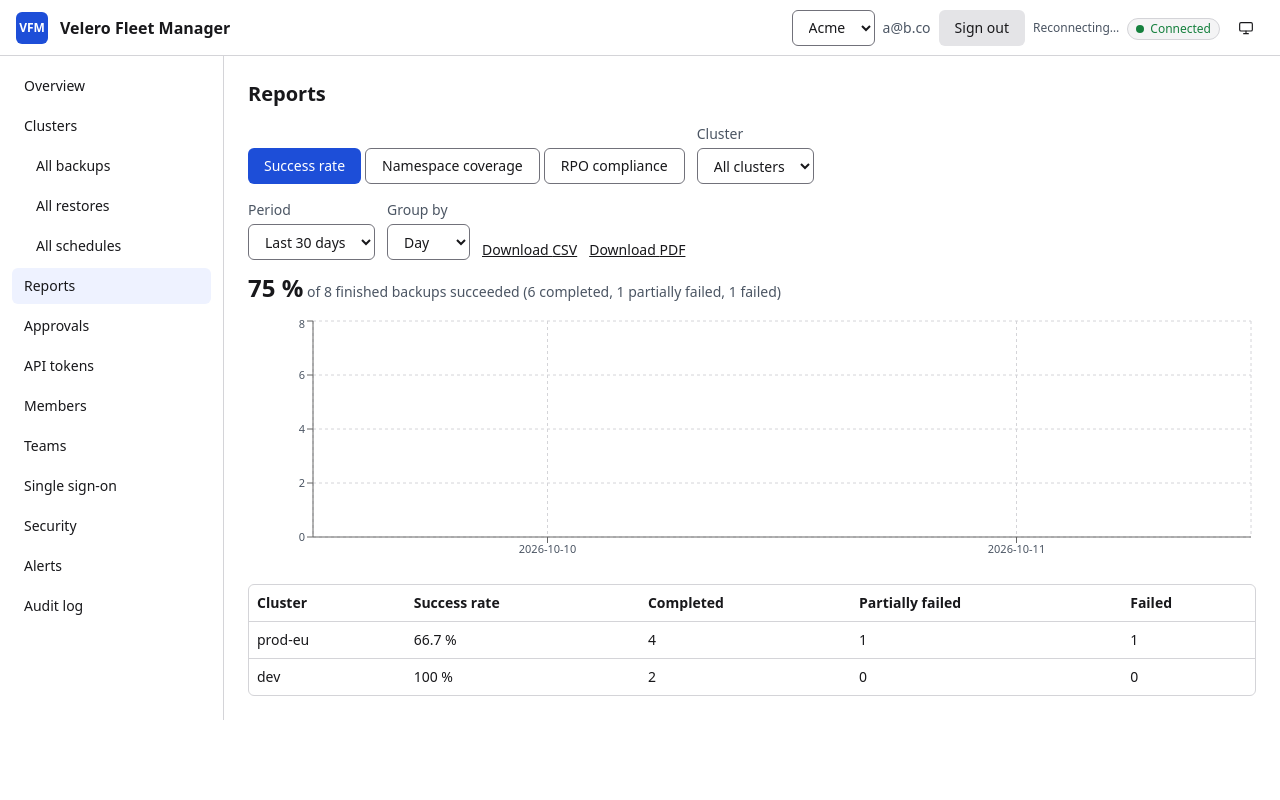
Test case: reports: namespace coverage › counts the namespaces without a recent backup and lists them per cluster
Expected: the heading "Reports" is shown, [248, 80, 326, 107]
Click the button "Namespace coverage" at (452, 166), box [365, 148, 540, 184]
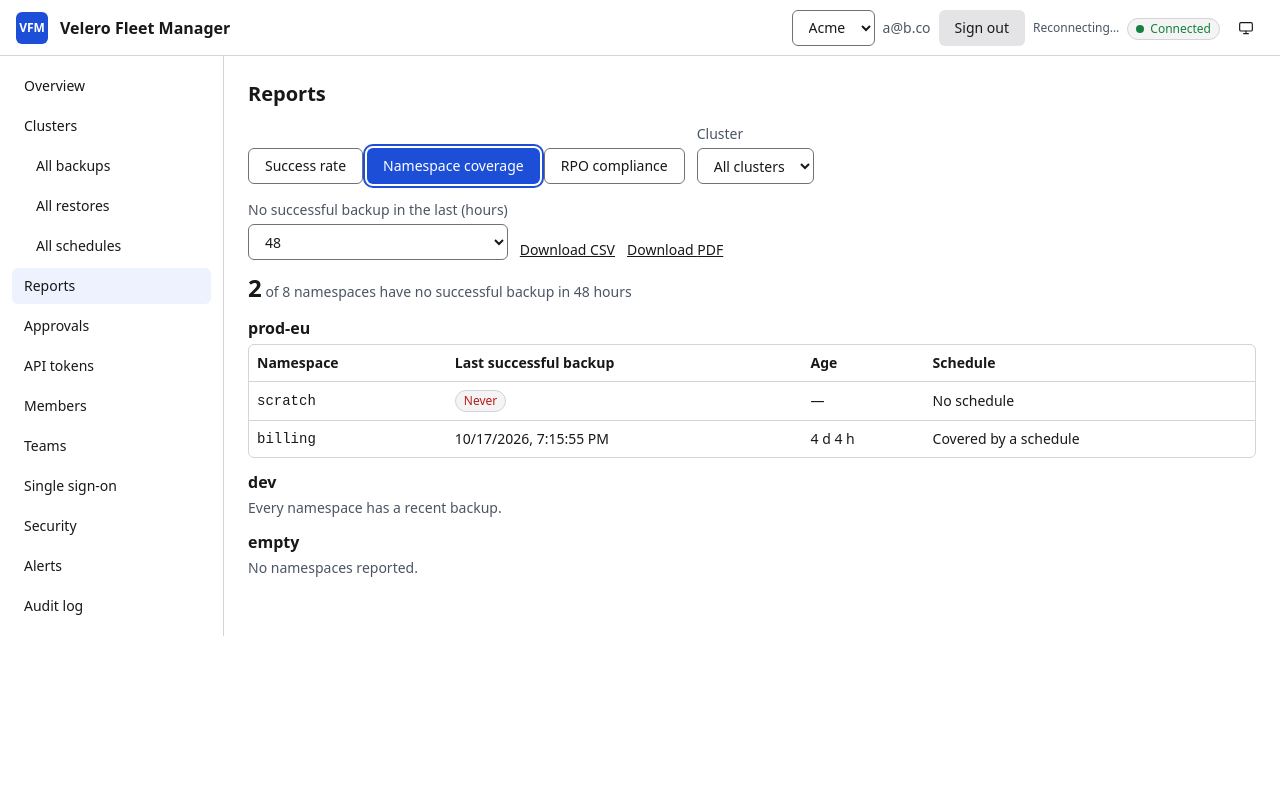
Now the text "of 8 namespaces have no successful backup in 48 hours" is shown, box [265, 282, 632, 301]
Now the text "Never" is shown, box [455, 390, 506, 412]
Now the text "No schedule" is shown, box [925, 382, 1255, 420]
